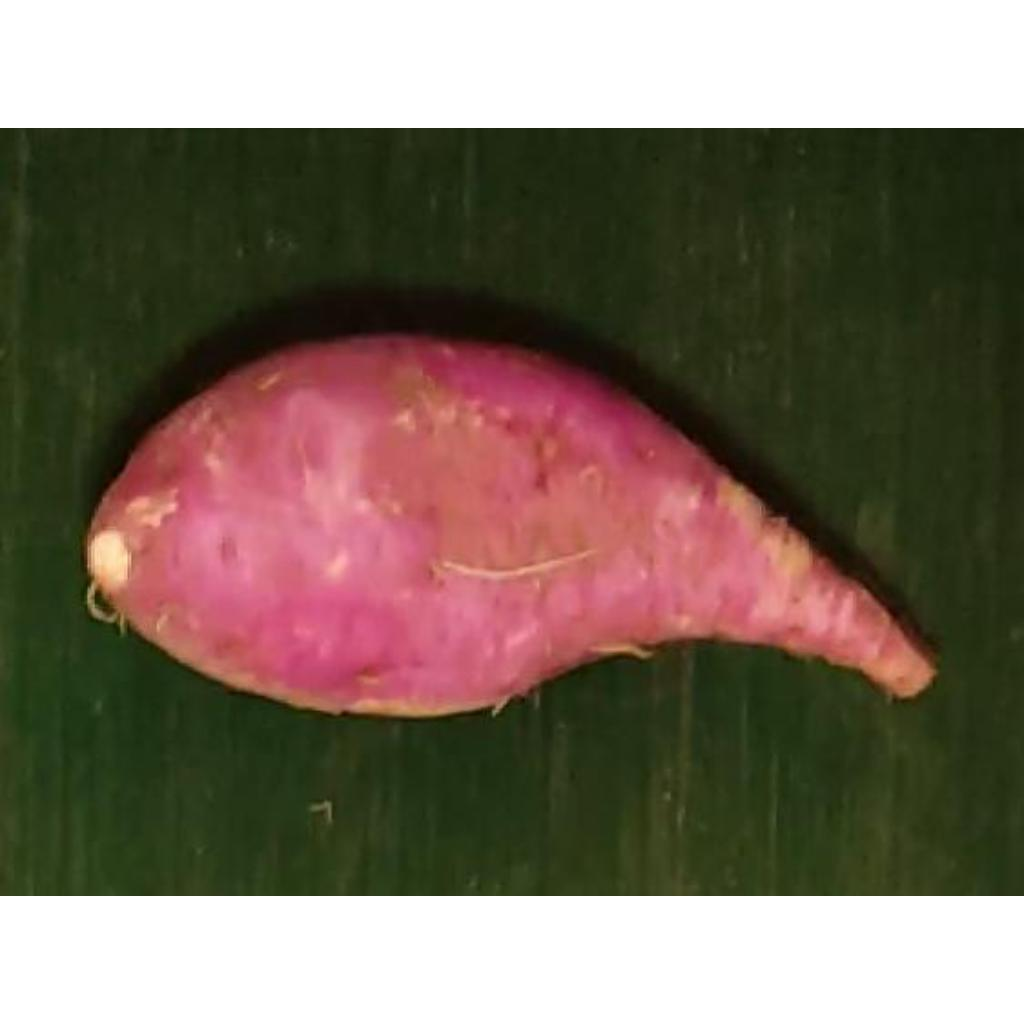Sweet Potato: (86, 334, 938, 724)
